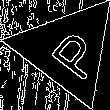P_NW: (34, 19, 101, 81)
